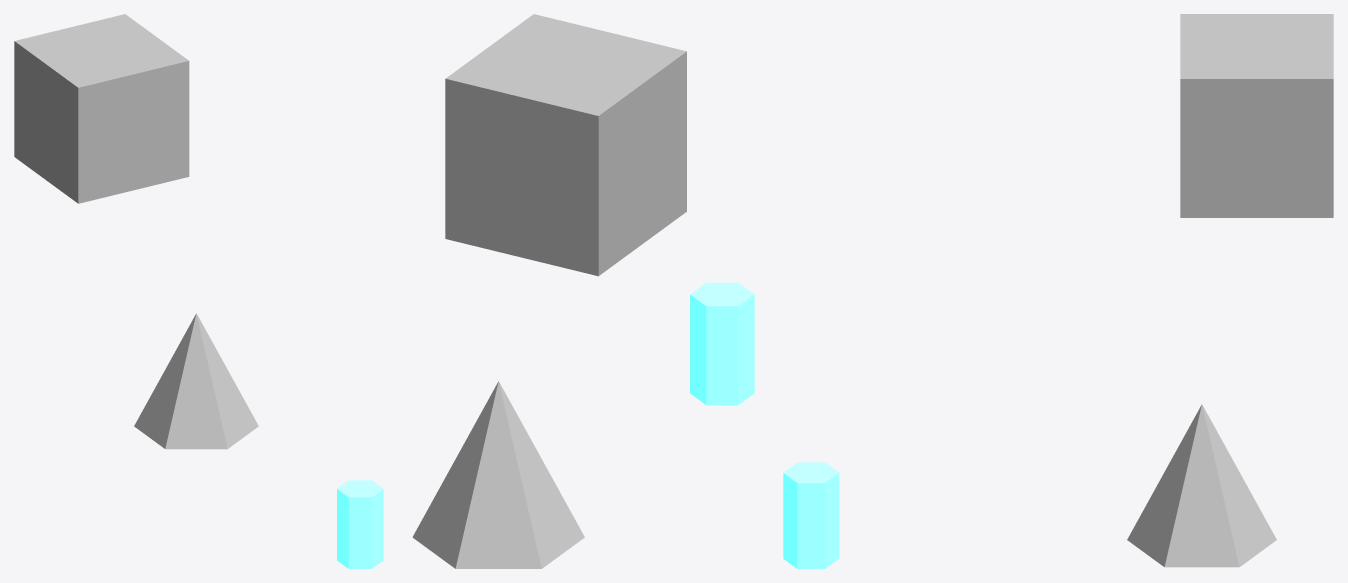
The model's file is Level1.glb.
3 views of the same model, side by side, from view 1: azimuth 30°, elevation 25°; view 2: azimuth 150°, elevation 25°; view 3: azimuth 270°, elevation 25° (orthographic). The views are drawn at different scales.
Visible parts, largest first — view 1: FallingCube, Test_comps, GlowyThing; view 2: FallingCube, Test_comps, GlowyThing; view 3: FallingCube, Test_comps, GlowyThing.
Part boxes in pixels (x1,y1,x2,y2): FallingCube: [14, 14, 189, 203]; Test_comps: [134, 313, 258, 449]; GlowyThing: [337, 480, 383, 568]; FallingCube: [445, 14, 686, 276]; Test_comps: [412, 381, 584, 568]; GlowyThing: [690, 282, 754, 405]; FallingCube: [1180, 14, 1333, 217]; Test_comps: [1127, 404, 1276, 567]; GlowyThing: [783, 462, 839, 568].
Size of what is drawn, in the model's own units: 7.85 by 16.87 by 17.92.
